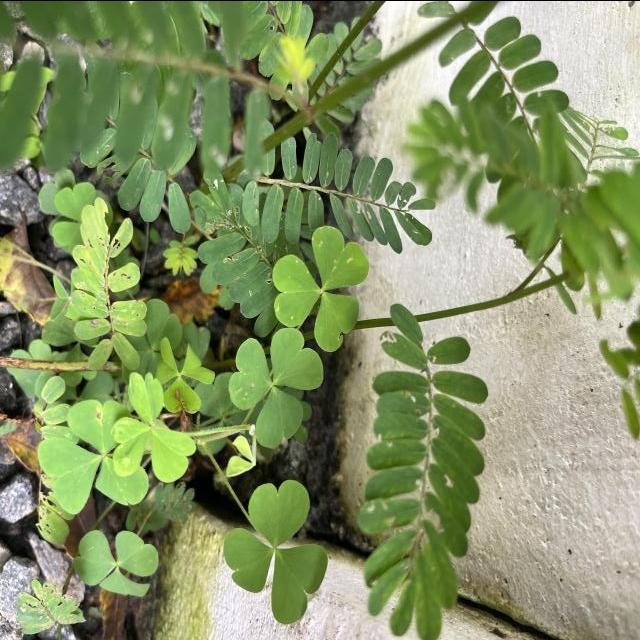Oxalis corniculata: (223, 478, 328, 624), (37, 397, 149, 513), (272, 224, 370, 352), (228, 326, 324, 448), (110, 371, 197, 484), (72, 528, 160, 597)
